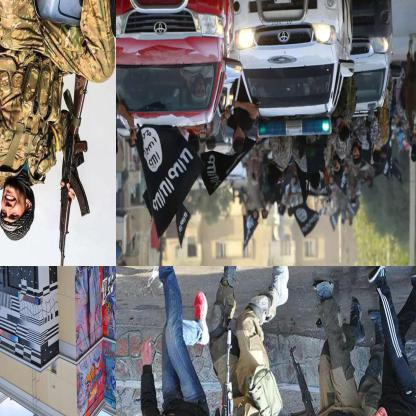rifle: (54, 74, 90, 265), (287, 342, 329, 415), (212, 328, 239, 415)
